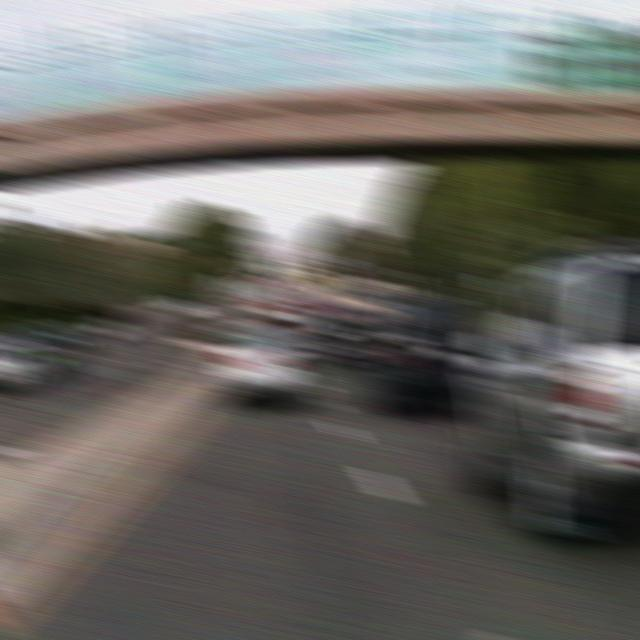speedLimit45: (209, 275, 238, 304)
